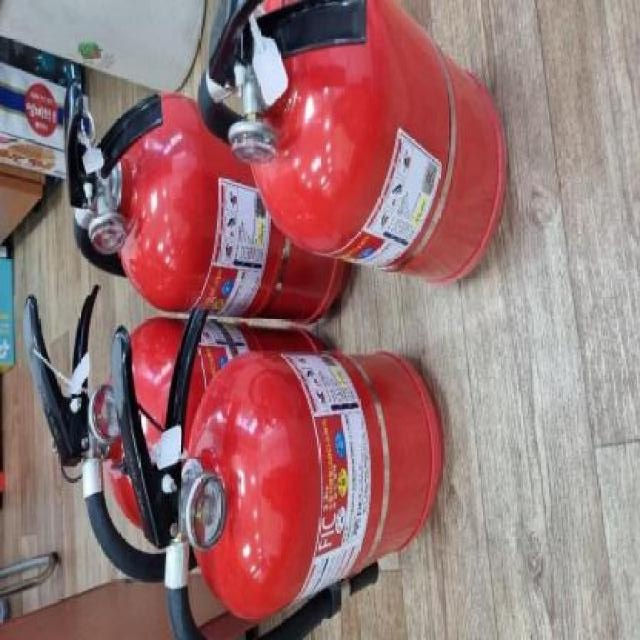fire extinguisher: (111, 306, 446, 637), (23, 283, 329, 585), (196, 0, 509, 285), (63, 60, 349, 326)
